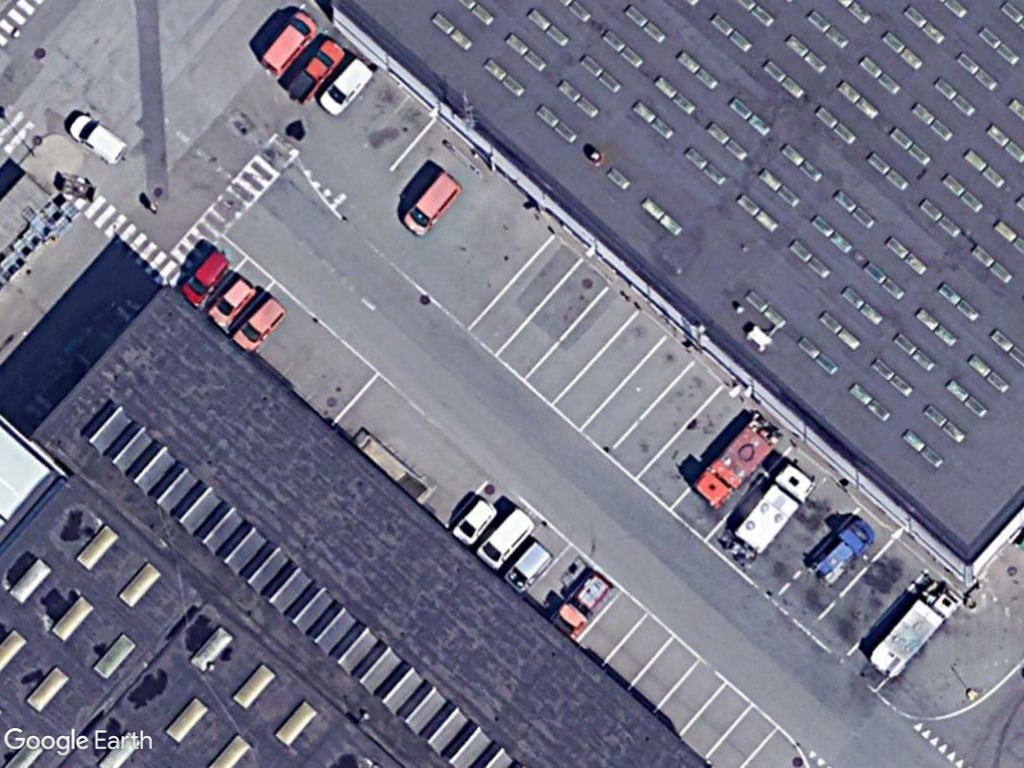car: (203, 272, 258, 332)
other: (281, 32, 349, 107)
truck: (688, 411, 781, 511), (728, 459, 816, 564)
van: (255, 2, 319, 80), (398, 167, 464, 242), (314, 48, 380, 121), (61, 108, 134, 170), (470, 500, 533, 571), (230, 292, 288, 356), (176, 242, 229, 308)
